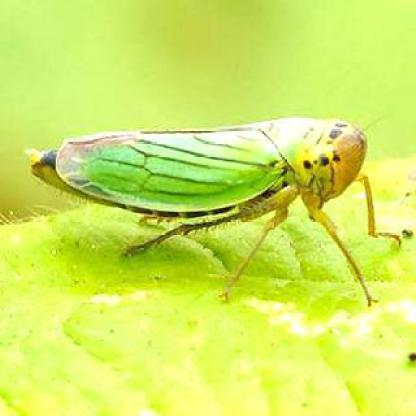green-leafhopper: (32, 116, 404, 307)
